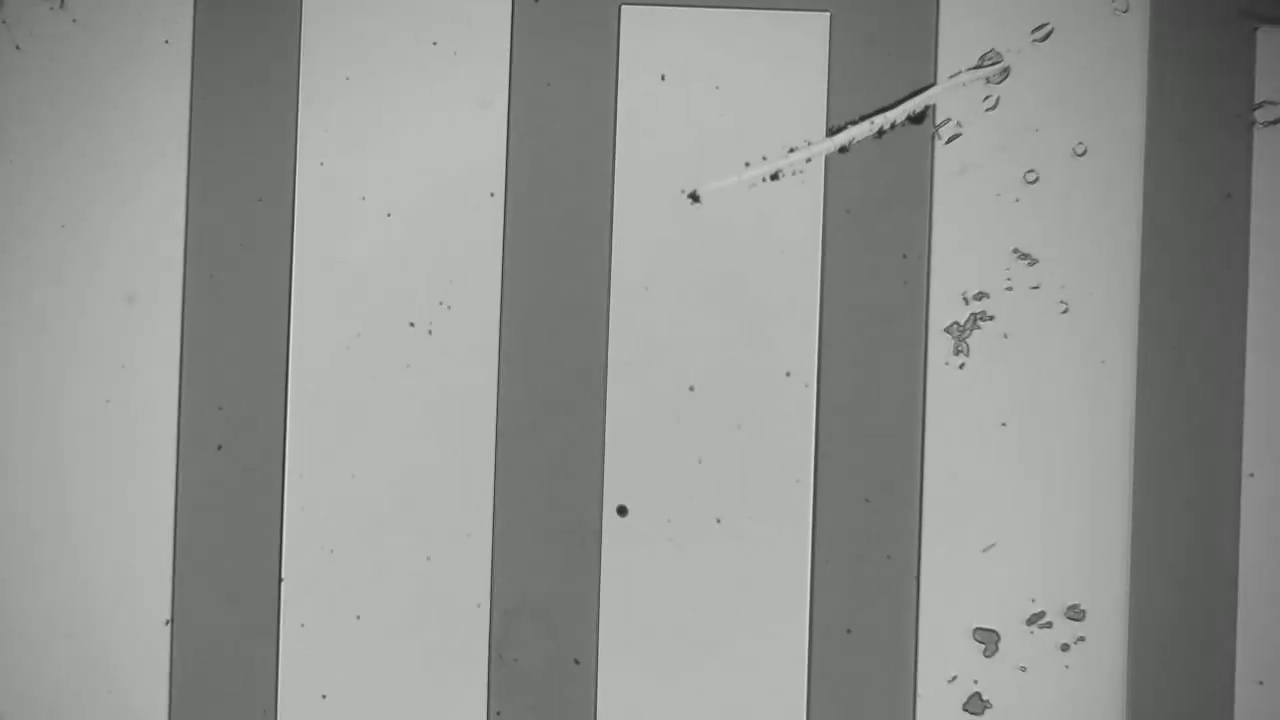Short_circuit: (807, 47, 959, 188)
